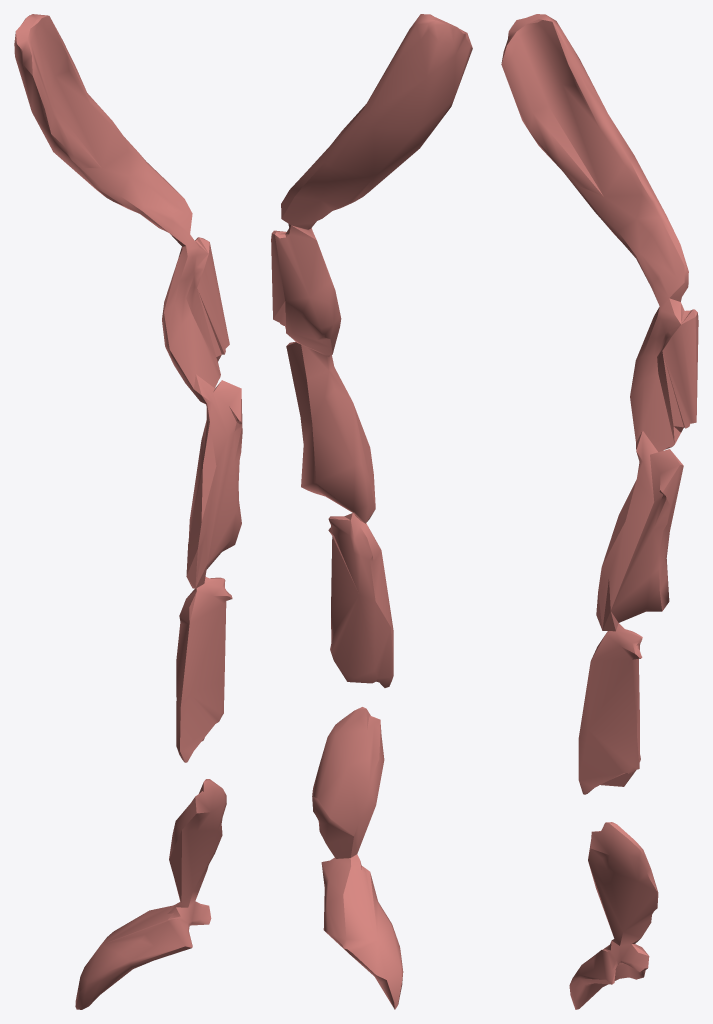
The model's file is fma71443_fj1553.glb.
3 renders of one model, left to right at view 1: azimuth 30°, elevation 25°; view 2: azimuth 150°, elevation 25°; view 3: azimuth 330°, elevation 25°, orthographic. The views are drawn at different scales.
Parts seen in each view (by area): view 1: FMA71443_FJ1553; view 2: FMA71443_FJ1553; view 3: FMA71443_FJ1553.
Boxes of the visible parts, bbox=[...] form: FMA71443_FJ1553: bbox=[14, 14, 242, 1009]; FMA71443_FJ1553: bbox=[271, 14, 472, 1009]; FMA71443_FJ1553: bbox=[501, 14, 698, 1009].
Size of the model in its own units: 0.0183 by 0.0867 by 0.0114.
